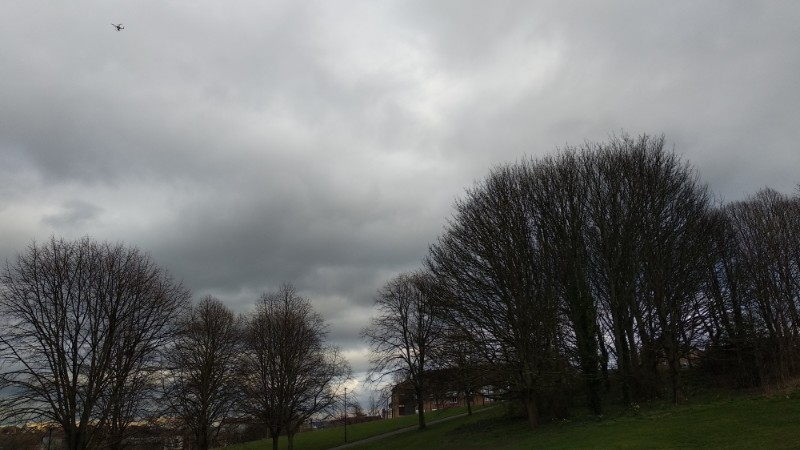drone: (114, 23, 126, 33)
